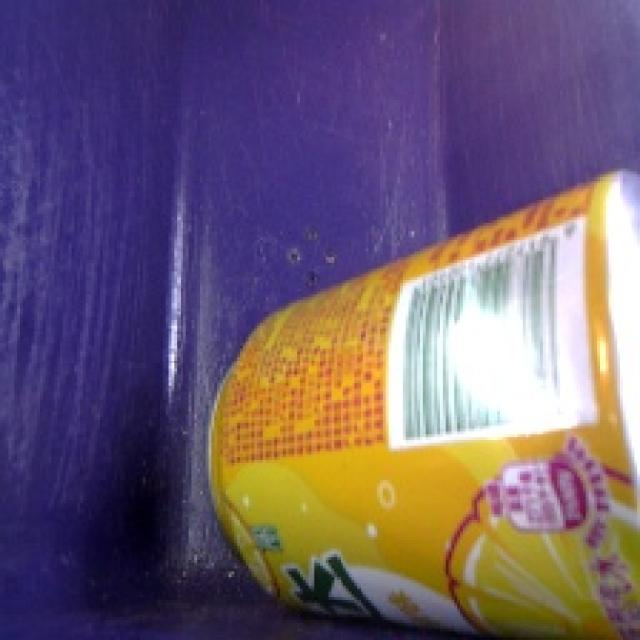metal: (188, 155, 640, 640)
